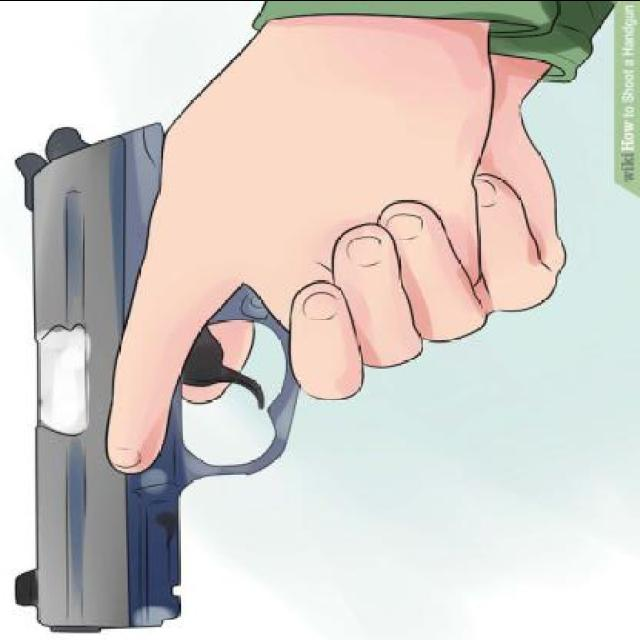pistol: (18, 96, 303, 638)
